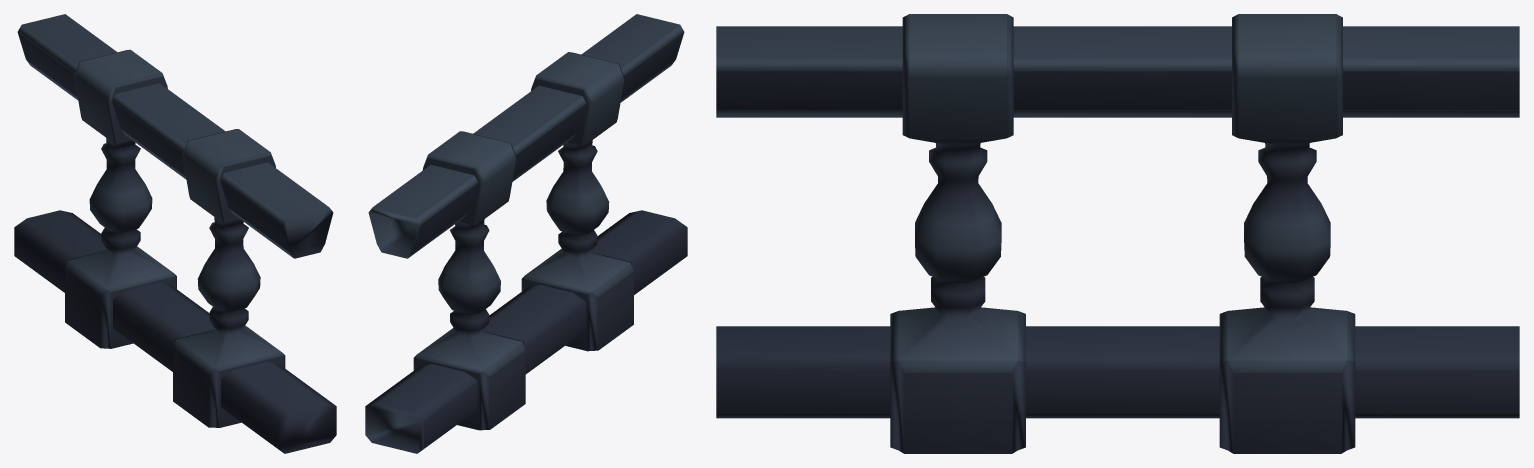
Rendered from Modular_Dungeon_Railing_Horizontal_Middle.fbx.
3 renders of one model, left to right at view 1: azimuth 30°, elevation 25°; view 2: azimuth 150°, elevation 25°; view 3: azimuth 270°, elevation 25°, orthographic. The views are drawn at different scales.
Parts seen in each view (by area): view 1: Railing_Horizontal_Middle; view 2: Railing_Horizontal_Middle; view 3: Railing_Horizontal_Middle.
Boxes of the visible parts, x1,y1,x2,y2 form: Railing_Horizontal_Middle: (14,14,336,453); Railing_Horizontal_Middle: (365,14,687,453); Railing_Horizontal_Middle: (716,14,1519,453).
Size of the model in its own units: 0.5918 by 1.91 by 3.53.
Materials: 1 (1 with a texture image).
